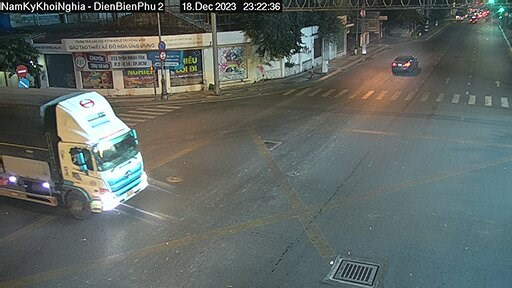car: (391, 52, 419, 80)
truck: (2, 83, 152, 219)
